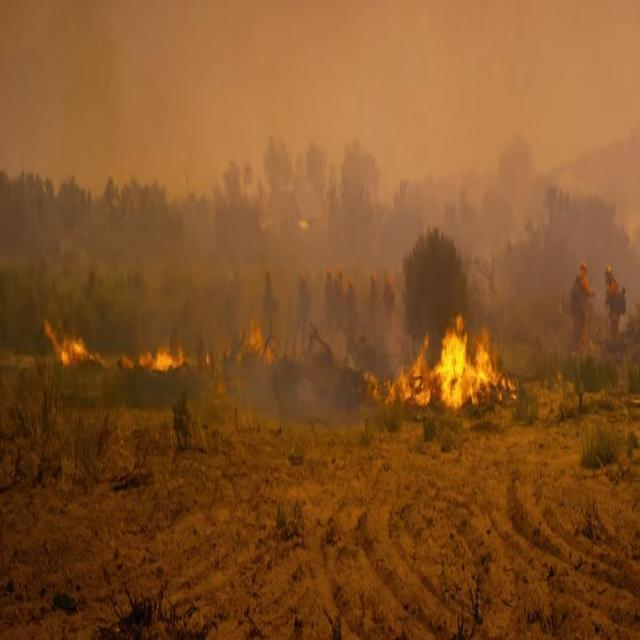Fire: (382, 308, 518, 423), (41, 304, 107, 388), (124, 329, 185, 384), (245, 318, 279, 364)
